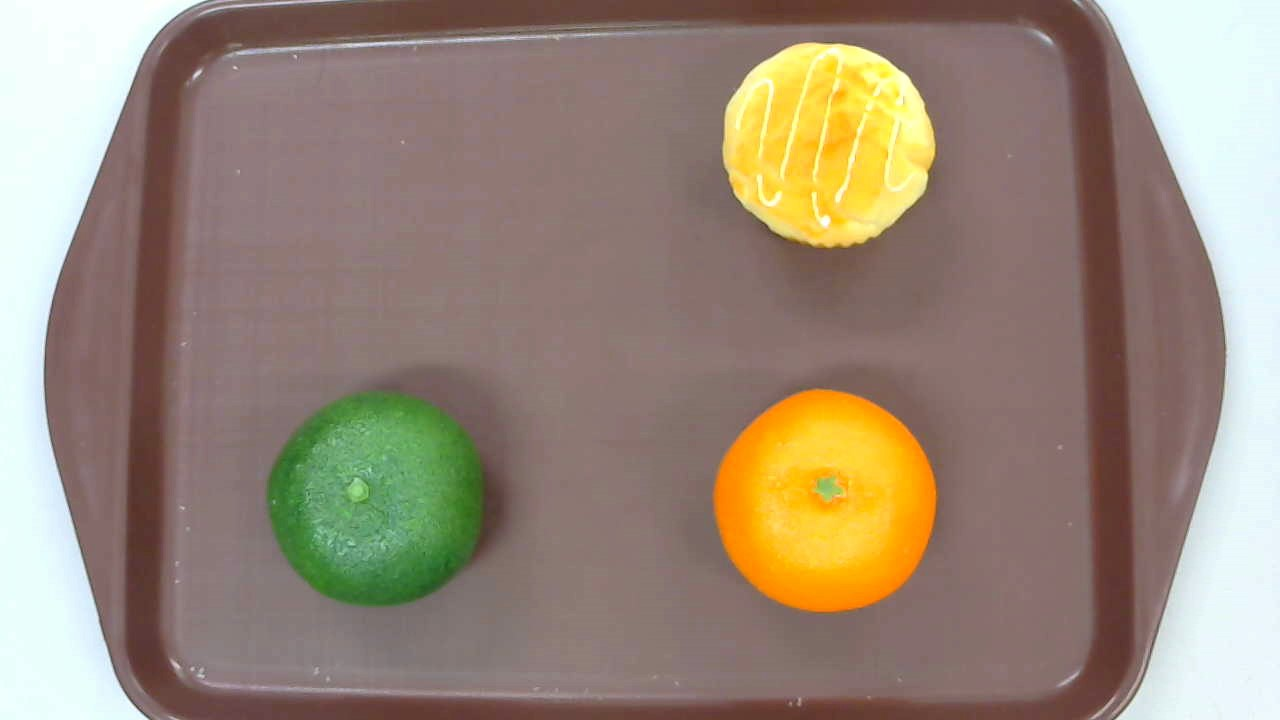cupcake: (722, 41, 935, 246)
green orange: (266, 387, 486, 606)
orange: (713, 388, 937, 616)
